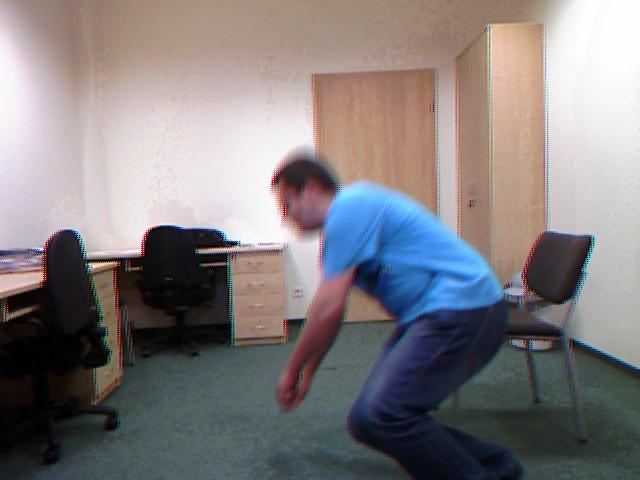near-fall: (253, 142, 539, 480)
